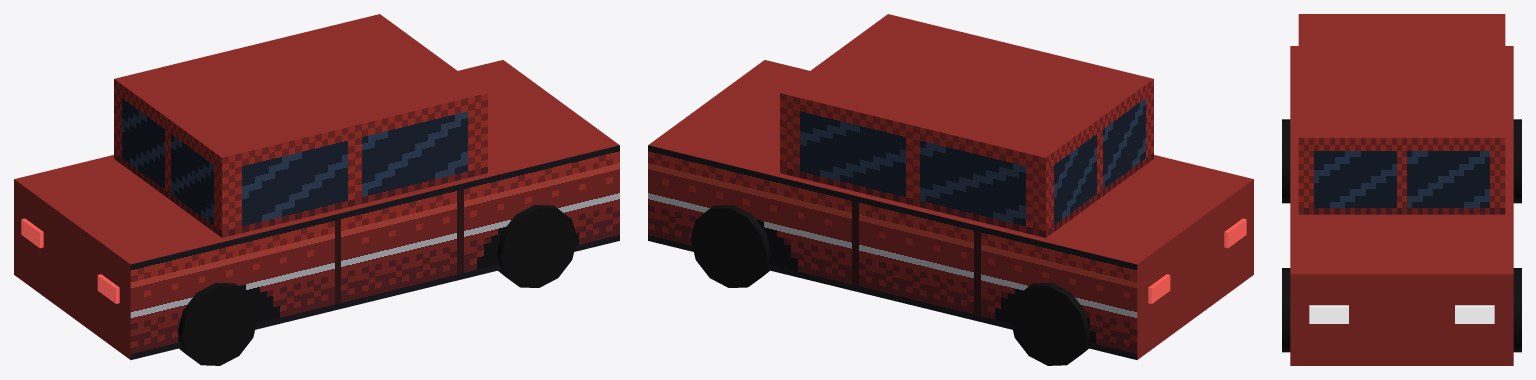
Rendered from Auto_1.glb.
The picture shows the model from 3 angles, left to right: view 1: azimuth 30°, elevation 25°; view 2: azimuth 150°, elevation 25°; view 3: azimuth 270°, elevation 25°; orthographic projection. The views are drawn at different scales.
Visible parts, largest first — view 1: Auto_1; view 2: Auto_1; view 3: Auto_1.
Part boxes in pixels (x1=…): Auto_1: x1=14, y1=14, x2=619, y2=365; Auto_1: x1=648, y1=14, x2=1253, y2=365; Auto_1: x1=1282, y1=14, x2=1521, y2=365.
Bounding box in the file's own units: 4.67 × 1.79 × 2.04.
6 materials, 2 textured.
